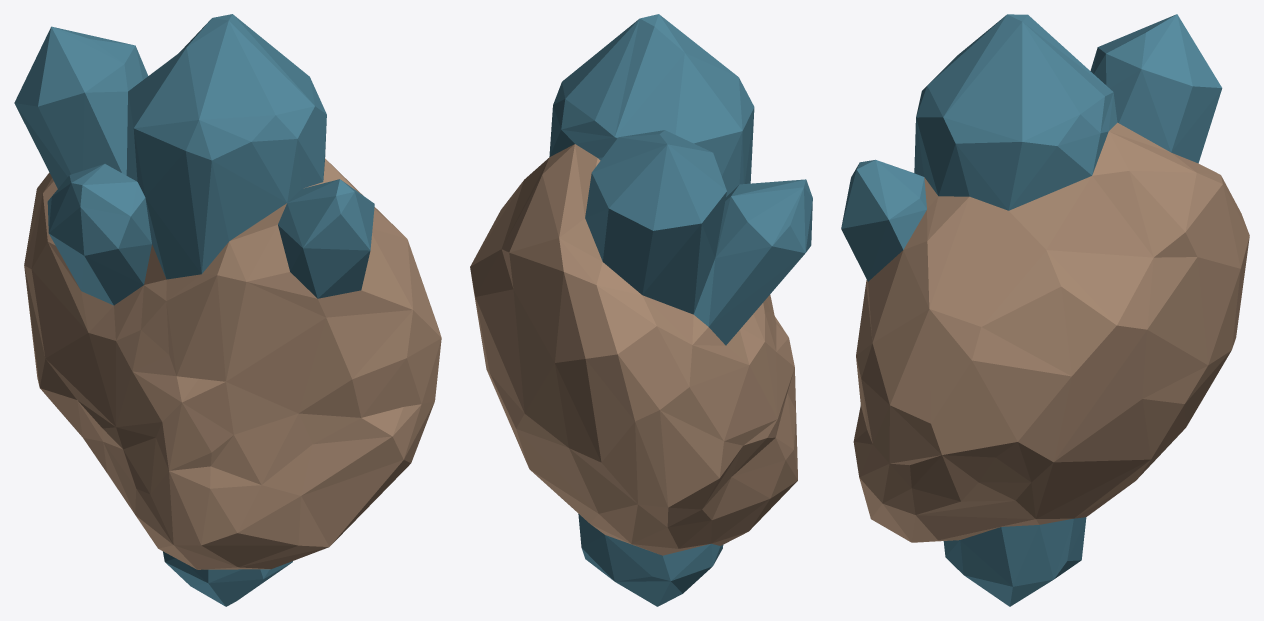
Rendered from SM_LP_Mineral_1.fbx.
3 renders of one model, left to right at view 1: azimuth 30°, elevation 25°; view 2: azimuth 150°, elevation 25°; view 3: azimuth 270°, elevation 25°, orthographic.
Visible parts, largest first — view 1: SM_LP_Mineral_1; view 2: SM_LP_Mineral_1; view 3: SM_LP_Mineral_1.
Boxes of the visible parts, x1,y1,x2,y2 form: SM_LP_Mineral_1: [14, 14, 441, 606]; SM_LP_Mineral_1: [470, 14, 812, 606]; SM_LP_Mineral_1: [841, 14, 1249, 606].
Bounding box in the file's own units: 0.8142 × 1.36 × 0.8538.
